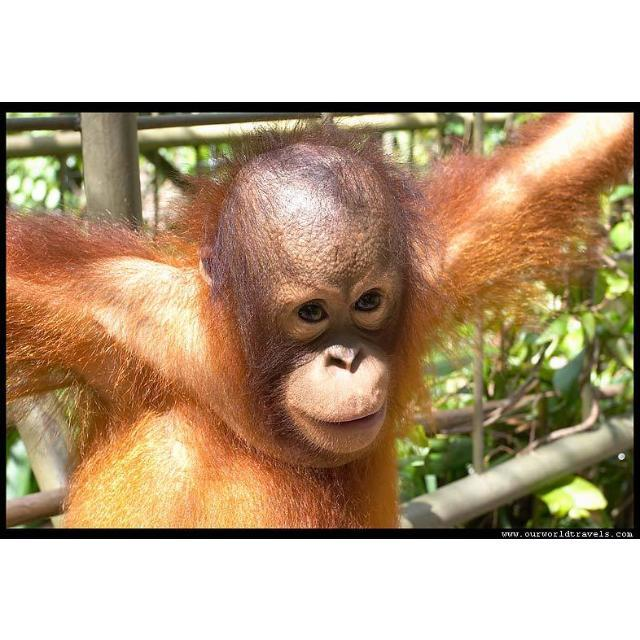Orangutan: (16, 114, 626, 516)
